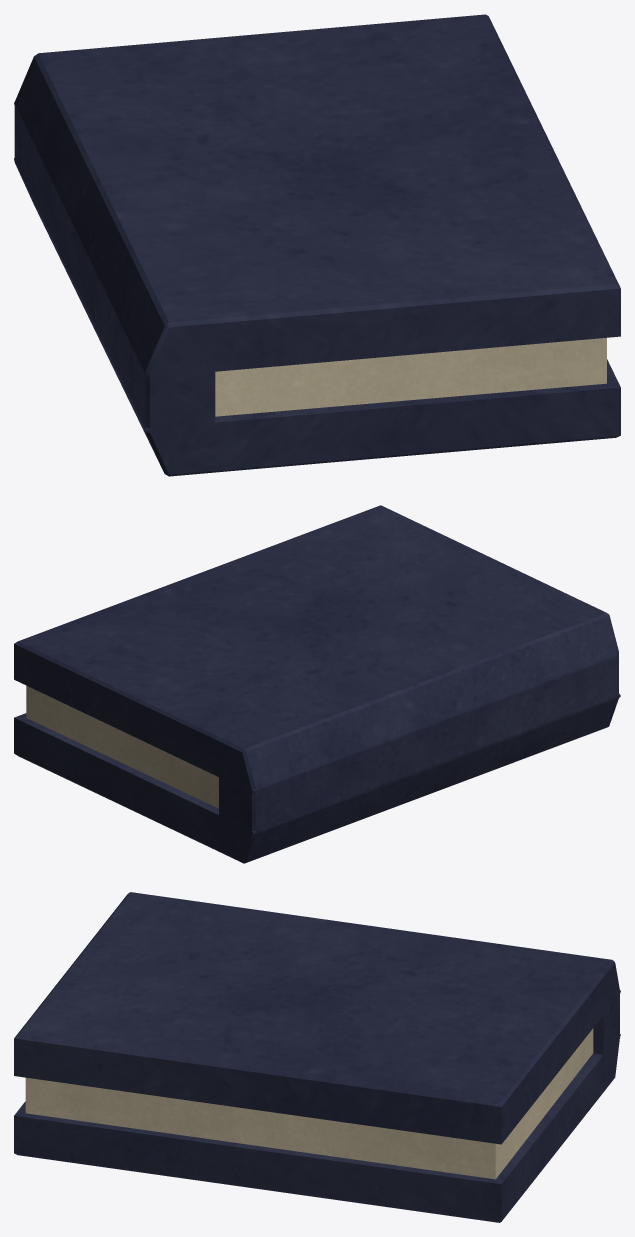
The model's file is SV_book(B).fbx.
3 renders of one model, top to bottom at view 1: azimuth 30°, elevation 25°; view 2: azimuth 150°, elevation 25°; view 3: azimuth 270°, elevation 25°, orthographic. The views are drawn at different scales.
Parts seen in each view (by area): view 1: pCube157; view 2: pCube157; view 3: pCube157.
Boxes of the visible parts, x1,y1,x2,y2 form: pCube157: (14, 14, 620, 476); pCube157: (14, 505, 620, 863); pCube157: (14, 892, 620, 1222).
Size of the model in its own units: 50.44 by 12.84 by 58.74.
1 material, 1 textured.
